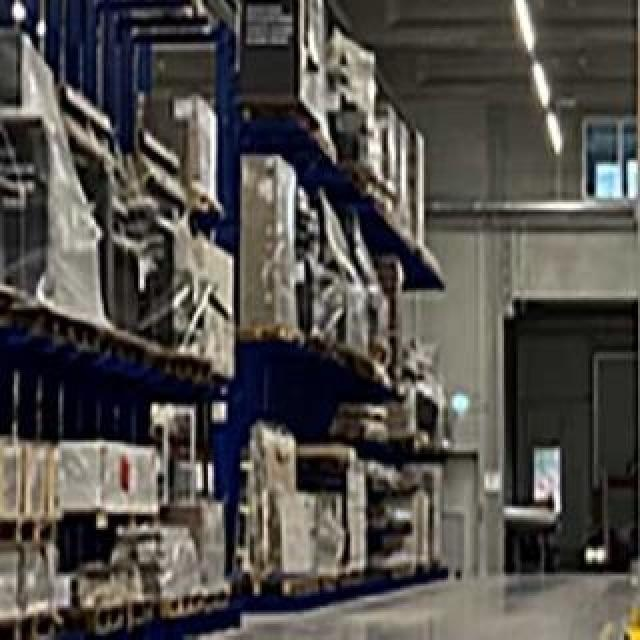fluorescent tube: (506, 0, 540, 56), (526, 60, 558, 115), (542, 111, 571, 160)
